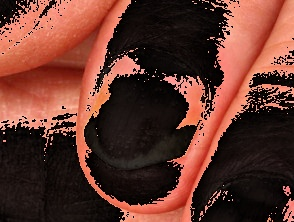Nail_psoriasis: (61, 11, 233, 212), (185, 147, 294, 222)
